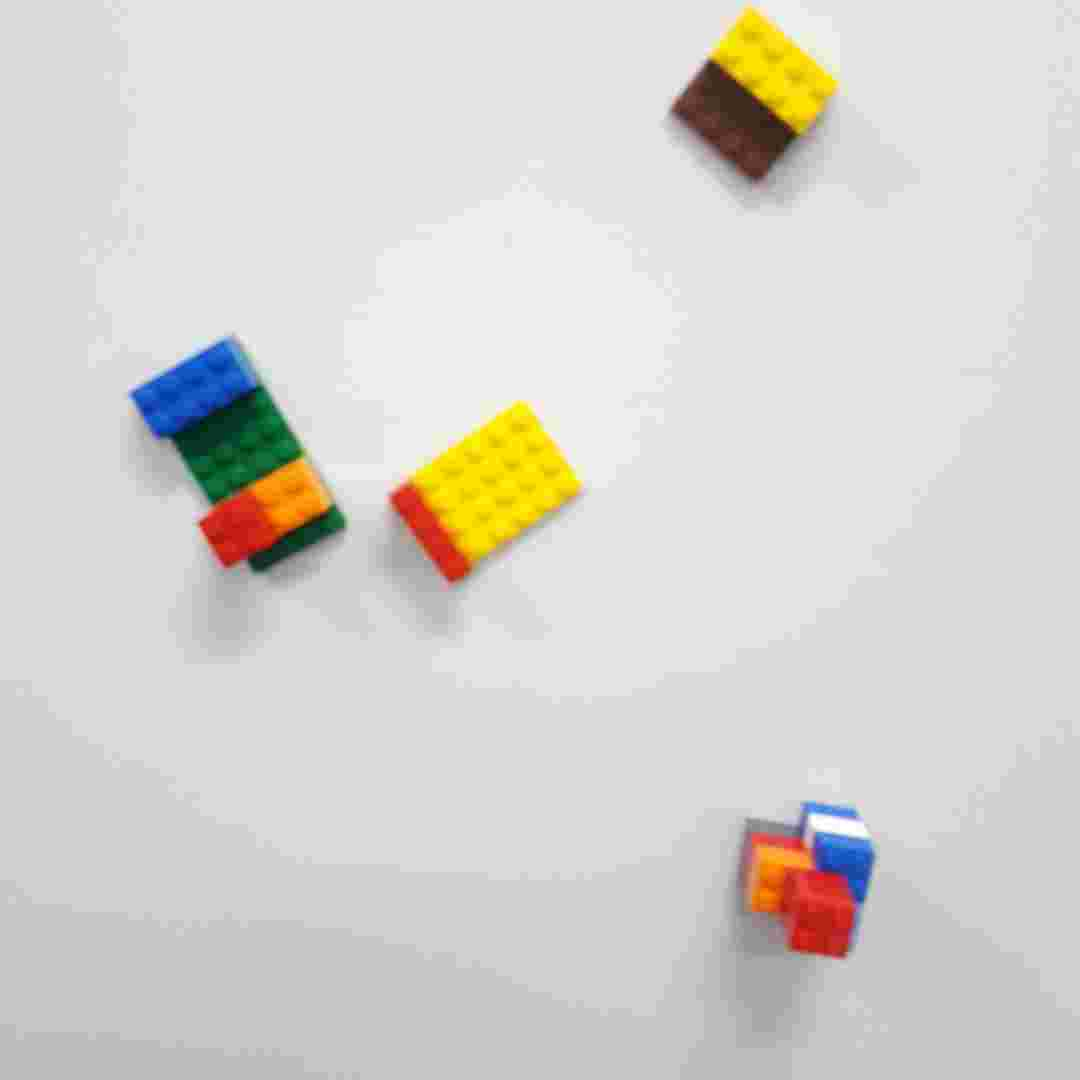LEGO: (129, 334, 353, 576), (387, 401, 585, 583), (658, 5, 848, 190), (738, 797, 878, 961)
